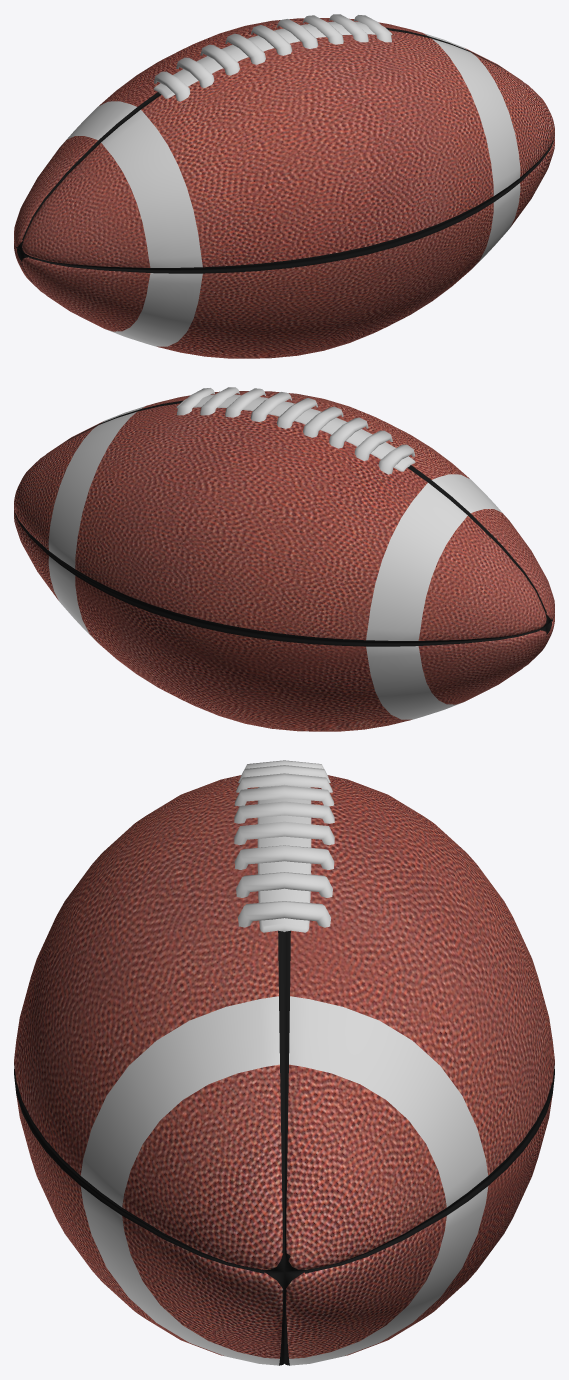
File: SM_Ball.fbx
The picture shows the model from 3 angles, top to bottom: view 1: azimuth 30°, elevation 25°; view 2: azimuth 150°, elevation 25°; view 3: azimuth 270°, elevation 25°; orthographic projection. The views are drawn at different scales.
Visible parts, largest first — view 1: SM_Ball; view 2: SM_Ball; view 3: SM_Ball.
Part boxes in pixels (x1,y1,x2,y2): SM_Ball: [14, 14, 554, 358]; SM_Ball: [14, 387, 554, 731]; SM_Ball: [14, 760, 554, 1365].
Bounding box in the file's own units: 55.29 × 31.17 × 30.66.
